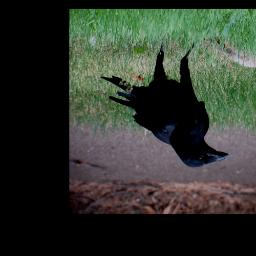Crow: (100, 40, 231, 169)
